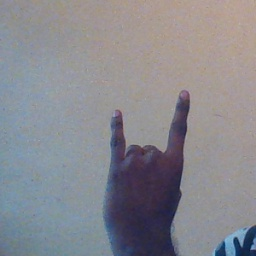V: (100, 88, 198, 238)
